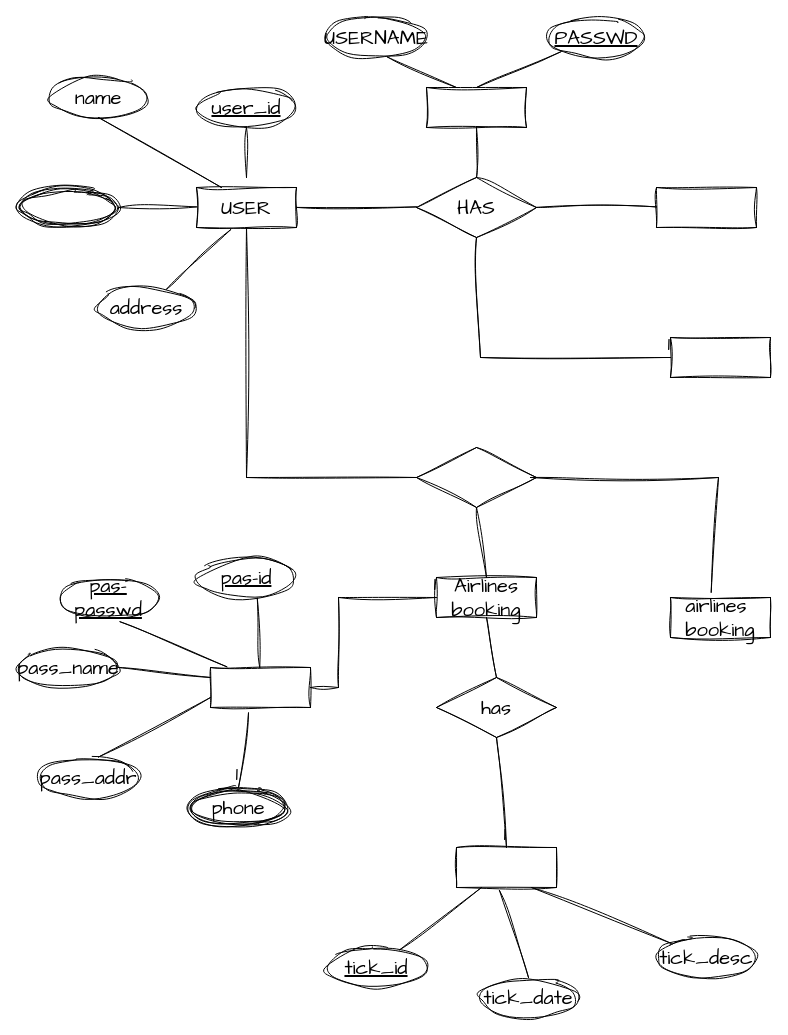
Image size: 788x1035. Some labels were removed from this diagram. Each missing label, with the centre of its shape:
"LOGIN" goes at point 476,107.
"manage" goes at point 476,477.
"mobile" goes at point 68,207.
"passenger" goes at point 260,687.
"permission" goes at point 720,357.
"Roles" goes at point 706,207.
"ticket" goes at point 506,867.
